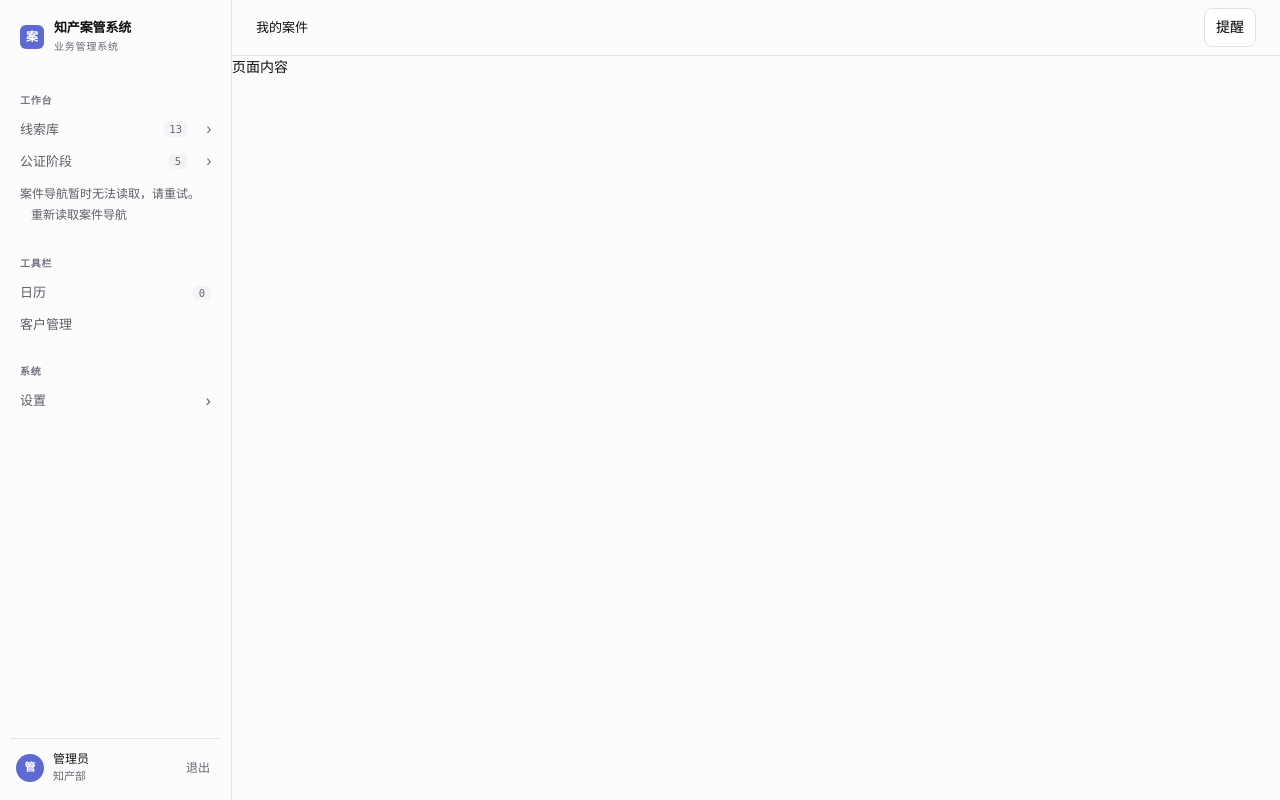
Test: AppShell › offers an explicit case navigation retry after an initial recoverable error {"name":"ApiError","status":500,"code":"INTERNAL_ERROR"}
Check: the message with test id "case-nav-error" shows "暂时无法读取", box [20,186,200,201]
Click the button with test id "case-nav-retry" at (79,215), box [20,203,138,227]
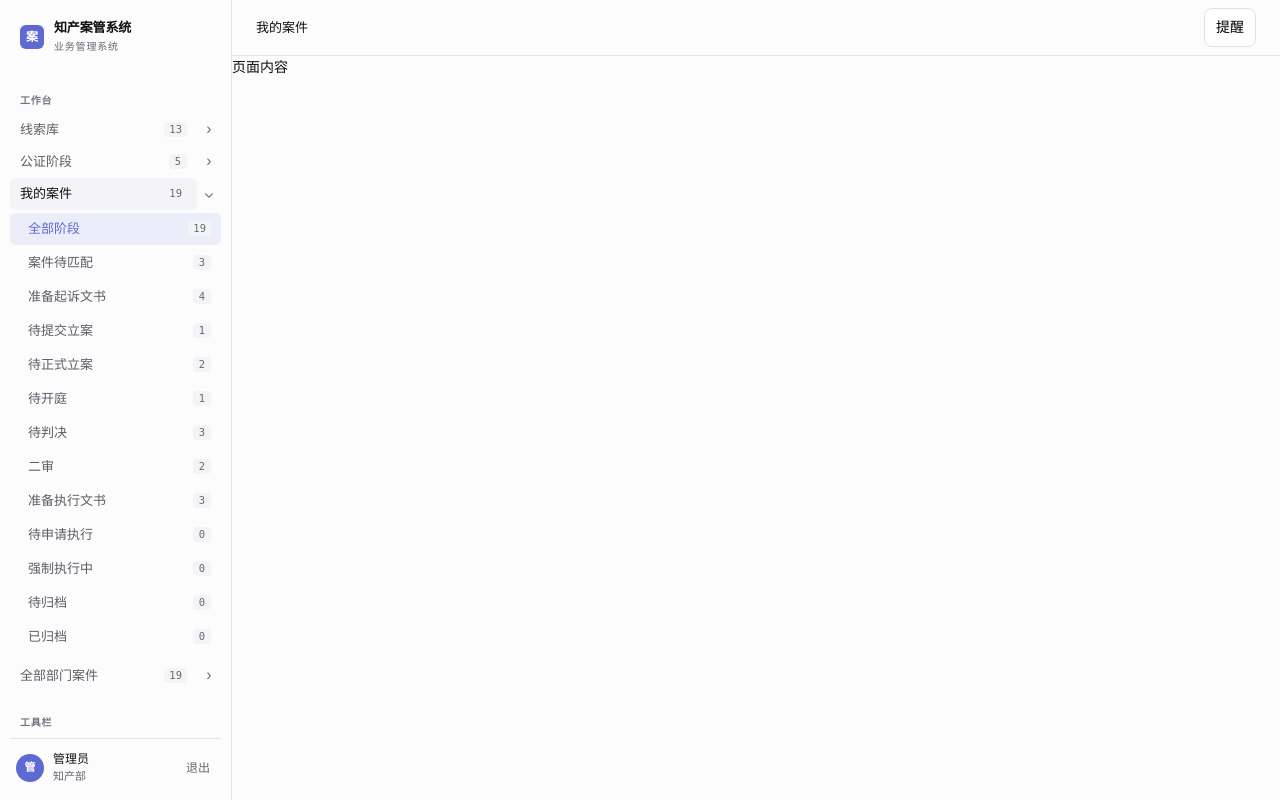
Check: the link with test id "case-view-mine" shows "我的案件", box [10,178,197,210]
